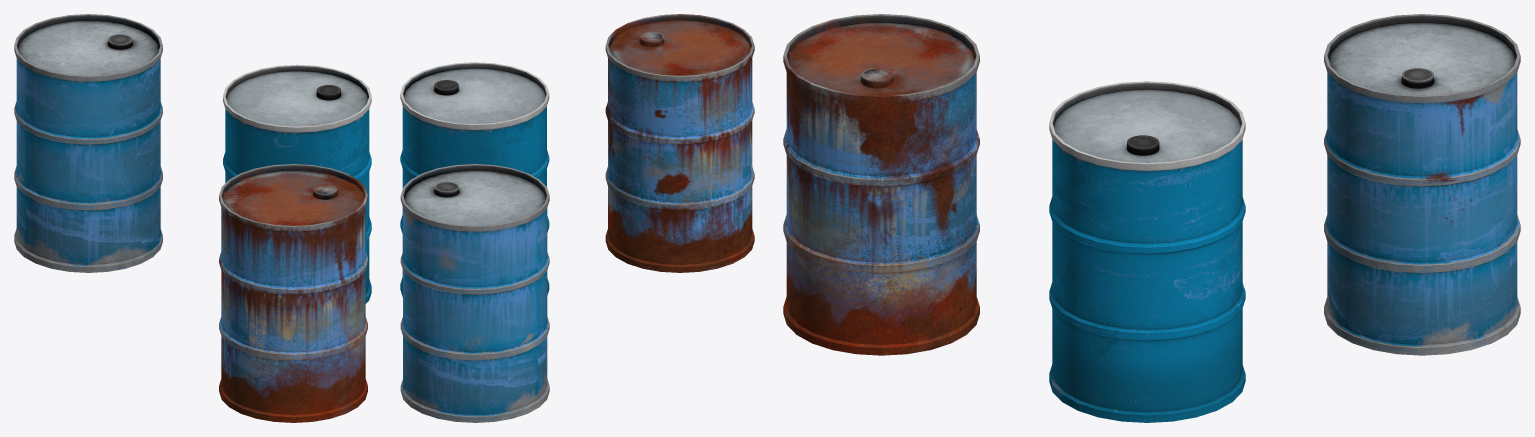
File: metal_barrel.glb
3 renders of one model, left to right at view 1: azimuth 30°, elevation 25°; view 2: azimuth 150°, elevation 25°; view 3: azimuth 270°, elevation 25°, orthographic. The views are drawn at different scales.
Visible parts, largest first — view 1: rusty, OldBarrel, GoodBarrel; view 2: OldBarrel, rusty, GoodBarrel; view 3: GoodBarrel, rusty, OldBarrel.
Part boxes in pixels (<box>): rusty: <box>219,164,367,422</box>; OldBarrel: <box>14,14,162,272</box>; GoodBarrel: <box>223,64,371,303</box>; OldBarrel: <box>400,164,549,422</box>; rusty: <box>605,14,754,272</box>; GoodBarrel: <box>400,62,549,297</box>; GoodBarrel: <box>1049,81,1245,422</box>; rusty: <box>783,14,979,355</box>; OldBarrel: <box>1324,14,1520,355</box>.
Size of the model in its own units: 108 by 87 by 225.
3 materials, 3 textured.
